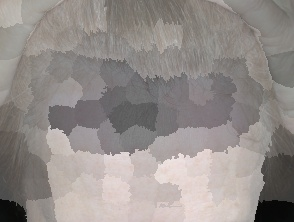vitiligo: (20, 32, 277, 205)
